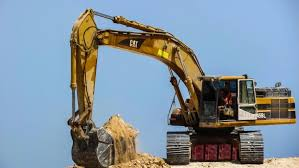excavator: (63, 8, 298, 168)
